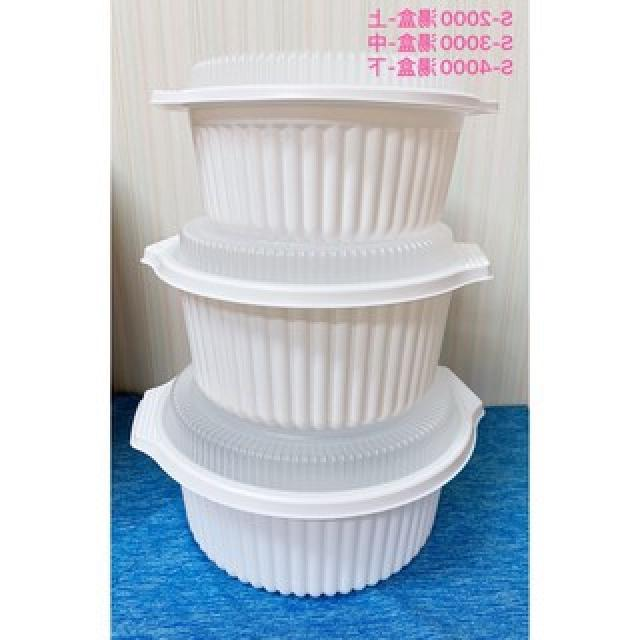plastic: (133, 377, 489, 602), (141, 224, 487, 426), (148, 56, 492, 235)
